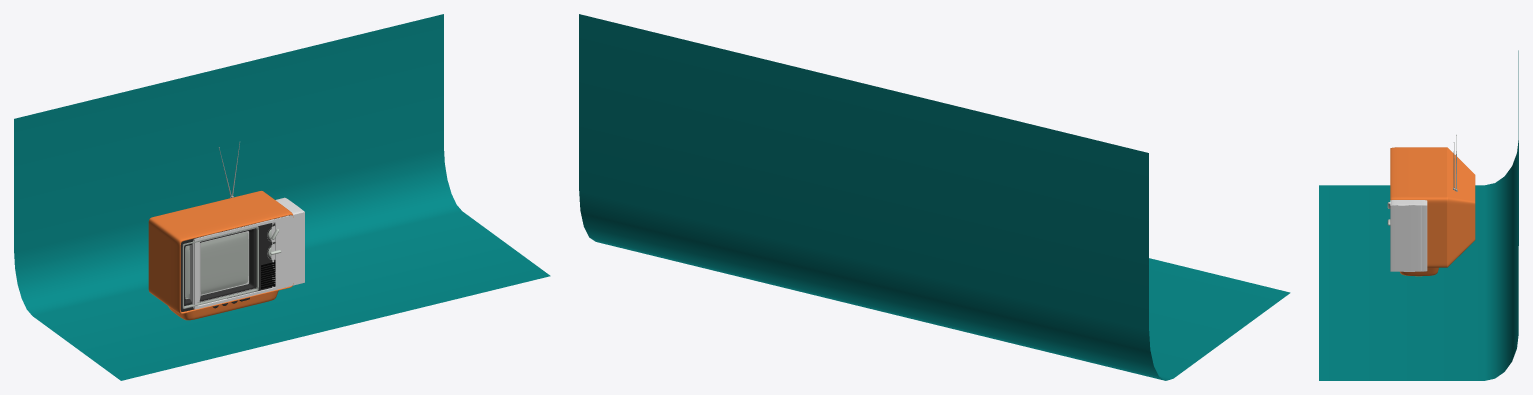
The picture shows the model from 3 angles, left to right: view 1: azimuth 30°, elevation 25°; view 2: azimuth 150°, elevation 25°; view 3: azimuth 270°, elevation 25°; orthographic projection. The views are drawn at different scales.
Visible parts, largest first — view 1: Plane, Cube.002, Cube.001, Cube.003, Cube.004, Cube.008, Cube; view 2: Plane; view 3: Plane, Cube.002, Cube.003, Cube, Cube.008.
Boxes of the visible parts, <box> form: Plane: <box>14,14,550,380</box>; Cube.002: <box>148,190,293,313</box>; Cube.001: <box>182,226,258,308</box>; Cube.003: <box>194,210,304,309</box>; Cube.004: <box>180,215,289,311</box>; Cube.008: <box>168,290,278,320</box>; Cube: <box>189,197,303,308</box>; Plane: <box>579,14,1290,380</box>; Plane: <box>1319,50,1518,380</box>; Cube.002: <box>1390,147,1475,267</box>; Cube.003: <box>1390,200,1421,271</box>; Cube: <box>1391,200,1427,271</box>; Cube.008: <box>1400,267,1438,276</box>.
Bounding box in the file's own units: 1622 × 664 × 700.
